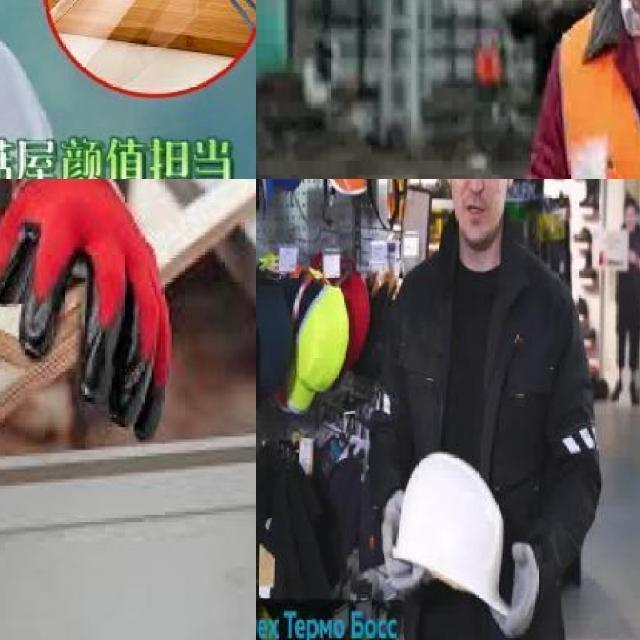apron: (0, 179, 197, 445), (380, 489, 431, 591), (496, 536, 538, 632)
